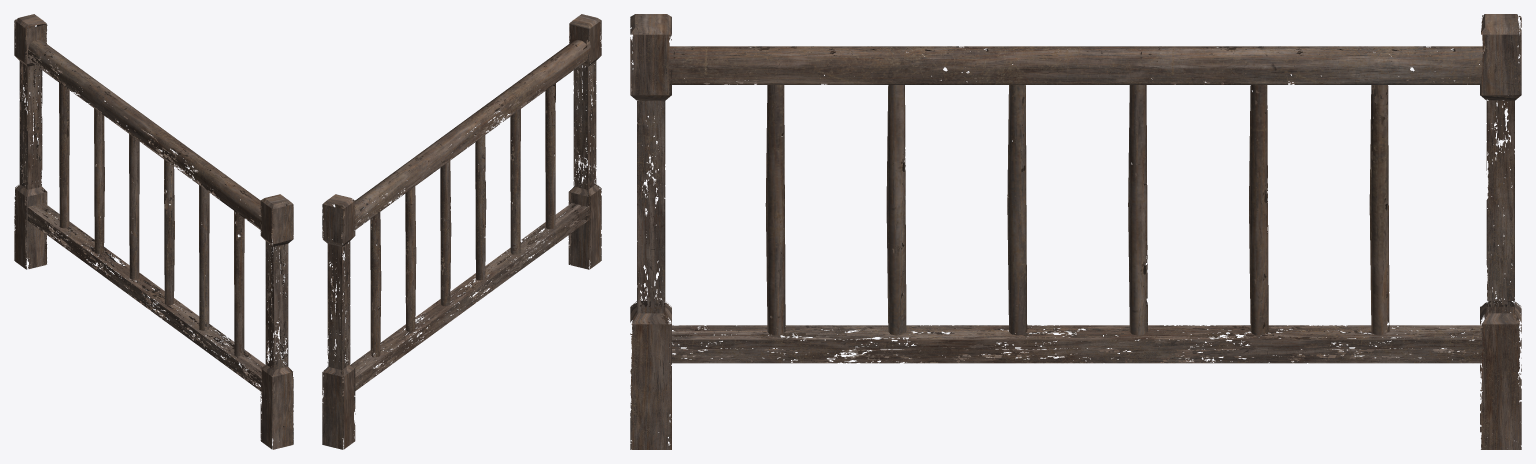
Rendered from SM_balcony_02.fbx.
3 views of the same model, side by side, from view 1: azimuth 30°, elevation 25°; view 2: azimuth 150°, elevation 25°; view 3: azimuth 270°, elevation 25° (orthographic). The views are drawn at different scales.
Visible parts, largest first — view 1: SM_balcony_02_LOD0; view 2: SM_balcony_02_LOD0; view 3: SM_balcony_02_LOD0.
Boxes of the visible parts, x1,y1,x2,y2 form: SM_balcony_02_LOD0: (14,14,293,449); SM_balcony_02_LOD0: (322,14,601,449); SM_balcony_02_LOD0: (630,14,1521,449).
Size of the model in its own units: 10 by 214 by 111.
1 material, 1 textured.
